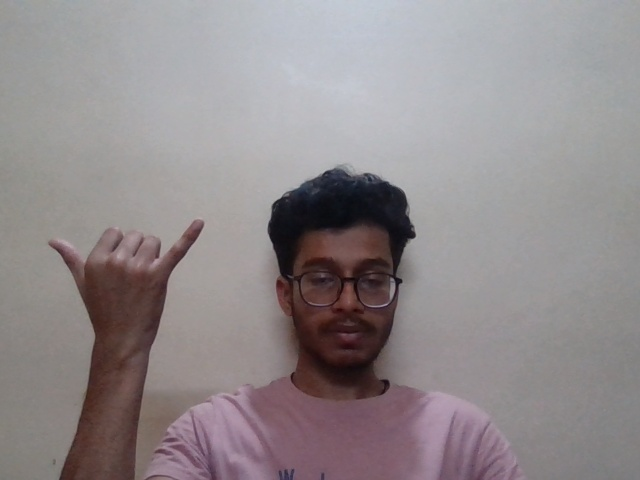Y: (45, 214, 214, 329)
